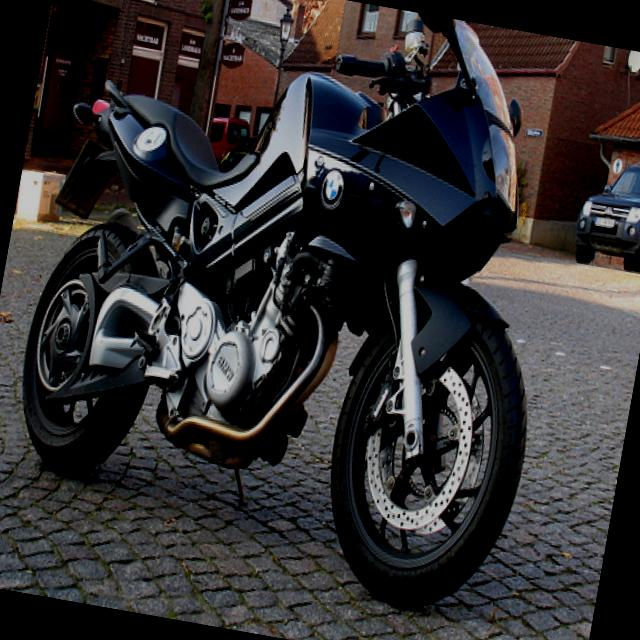Vehicle: (0, 0, 601, 631), (568, 148, 640, 276), (571, 153, 640, 278), (203, 112, 254, 166), (204, 113, 253, 167)
